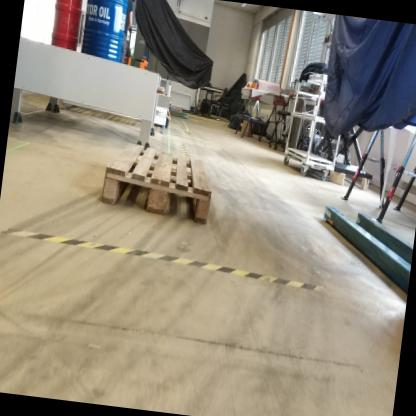BoxFace: (99, 137, 216, 231)
